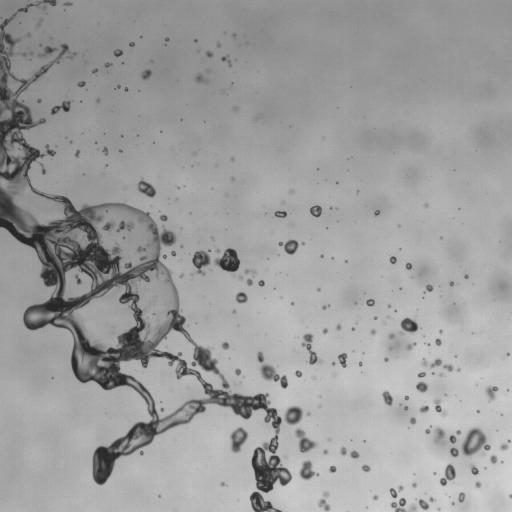droplet: (460, 427, 490, 456), (214, 248, 240, 276), (295, 428, 317, 452), (192, 250, 210, 275), (230, 427, 248, 452), (299, 460, 318, 480), (137, 179, 155, 197), (278, 239, 299, 254), (400, 317, 418, 334), (318, 491, 330, 511), (485, 386, 497, 401), (433, 427, 444, 443), (382, 390, 393, 405), (310, 205, 321, 217), (235, 292, 247, 303), (417, 499, 429, 510), (338, 353, 347, 367), (416, 381, 427, 392), (141, 69, 151, 79), (195, 74, 207, 82), (470, 464, 478, 475), (406, 342, 416, 350), (419, 405, 429, 413), (450, 447, 458, 457), (389, 488, 397, 498), (274, 211, 286, 217), (350, 450, 359, 458), (458, 492, 465, 502), (244, 269, 255, 275), (362, 464, 370, 472), (113, 49, 122, 56), (425, 284, 433, 291), (366, 299, 374, 306), (221, 342, 229, 349), (449, 435, 456, 443), (490, 455, 497, 463), (160, 214, 167, 221), (405, 262, 412, 269), (340, 447, 346, 455), (390, 256, 396, 263), (246, 278, 252, 285), (435, 338, 441, 345), (295, 370, 301, 377), (410, 417, 416, 424), (329, 466, 336, 472), (77, 81, 85, 86), (206, 51, 212, 57), (258, 280, 264, 286), (370, 329, 376, 335), (388, 333, 394, 339), (475, 481, 481, 487), (372, 494, 378, 500), (103, 147, 108, 154), (322, 304, 329, 309), (235, 368, 240, 375), (418, 372, 425, 377), (37, 19, 42, 25), (336, 324, 341, 330), (220, 481, 226, 486), (398, 485, 403, 491), (429, 497, 435, 502), (92, 68, 97, 73), (374, 210, 379, 215), (238, 275, 243, 280), (322, 328, 327, 333), (425, 428, 430, 433), (20, 52, 26, 56), (105, 63, 111, 67), (75, 150, 79, 156), (129, 42, 134, 46), (289, 189, 294, 193), (215, 248, 220, 252), (456, 430, 461, 434), (65, 2, 71, 5), (165, 37, 169, 41), (234, 107, 238, 111), (424, 203, 428, 207), (171, 251, 175, 255), (464, 274, 468, 278), (449, 281, 453, 285), (384, 357, 388, 361), (404, 395, 408, 399), (323, 450, 327, 454), (412, 483, 416, 487), (217, 43, 220, 47), (37, 98, 40, 102), (358, 362, 362, 365), (96, 99, 99, 102), (180, 274, 183, 277), (232, 310, 235, 313), (439, 330, 442, 333), (439, 373, 442, 376), (404, 406, 407, 409), (160, 408, 163, 411), (284, 455, 287, 458), (509, 494, 511, 498), (30, 52, 33, 54), (117, 85, 120, 87), (125, 88, 127, 91), (119, 149, 121, 152), (302, 242, 304, 245), (320, 255, 323, 257), (291, 302, 293, 305), (374, 316, 376, 319), (352, 327, 354, 330), (426, 343, 429, 345), (457, 368, 459, 371), (476, 410, 479, 412), (307, 412, 309, 415), (27, 33, 29, 35), (233, 34, 235, 36), (231, 158, 233, 160), (231, 178, 233, 180), (507, 353, 509, 355), (313, 377, 315, 379), (451, 502, 453, 504)
ligament: (0, 14, 302, 511), (257, 352, 287, 388), (301, 333, 322, 364), (17, 0, 56, 12), (421, 358, 453, 371), (390, 498, 417, 511), (440, 463, 455, 485), (51, 101, 70, 114), (434, 399, 447, 416), (38, 46, 56, 56), (221, 56, 231, 66), (500, 440, 510, 450), (39, 163, 45, 173), (122, 236, 130, 241)
